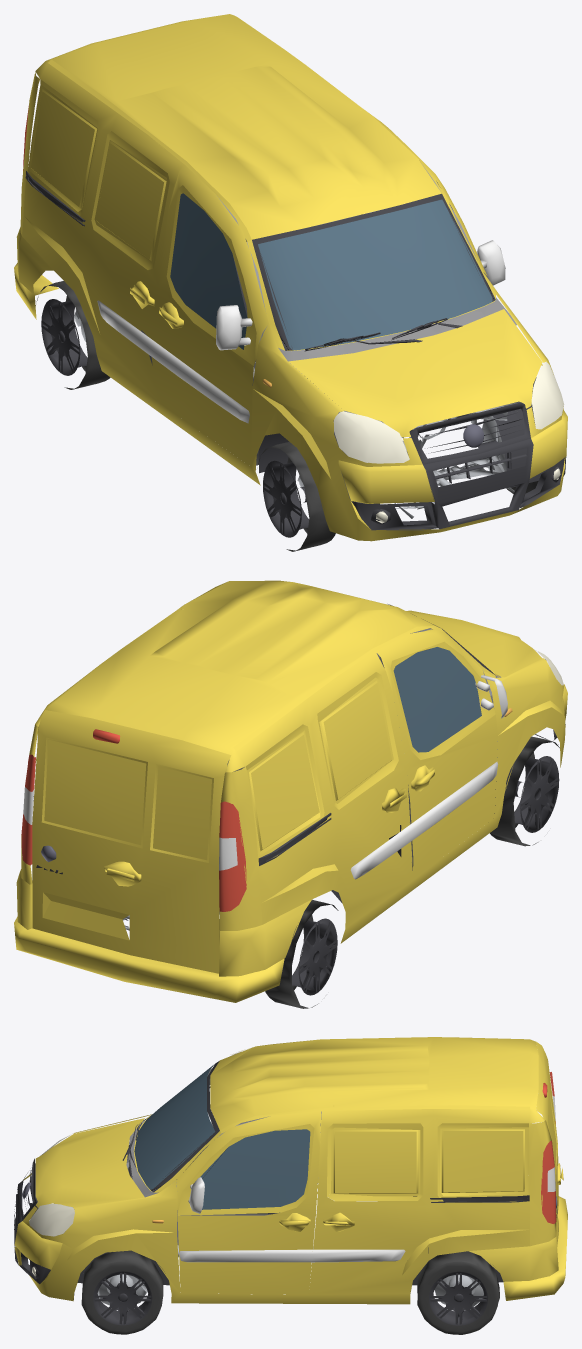
The model's file is araba-yellow.glb.
The picture shows the model from 3 angles, top to bottom: view 1: azimuth 30°, elevation 25°; view 2: azimuth 150°, elevation 25°; view 3: azimuth 270°, elevation 25°; orthographic projection. The views are drawn at different scales.
Visible parts, largest first — view 1: body, wheel-back-right, wheel-front-right; view 2: body, wheel-front-right, wheel-back-right; view 3: body, wheel-front-left, wheel-back-left.
Boxes of the visible parts, x1,y1,x2,y2 form: body: (14, 14, 567, 551); wheel-back-right: (41, 295, 87, 375); wheel-front-right: (263, 457, 335, 538); body: (14, 580, 567, 1008); wheel-front-right: (514, 752, 559, 832); wheel-back-right: (265, 915, 337, 996); body: (14, 1037, 567, 1334); wheel-front-left: (82, 1261, 162, 1334); wheel-back-left: (417, 1262, 498, 1334).
Size of the model in its own units: 1.31 by 1.27 by 2.89.
